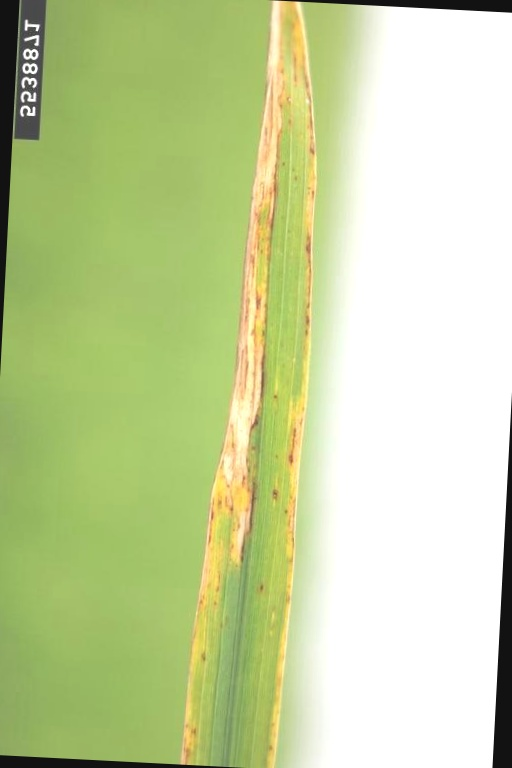Leaf_Blast: (187, 8, 317, 715)
